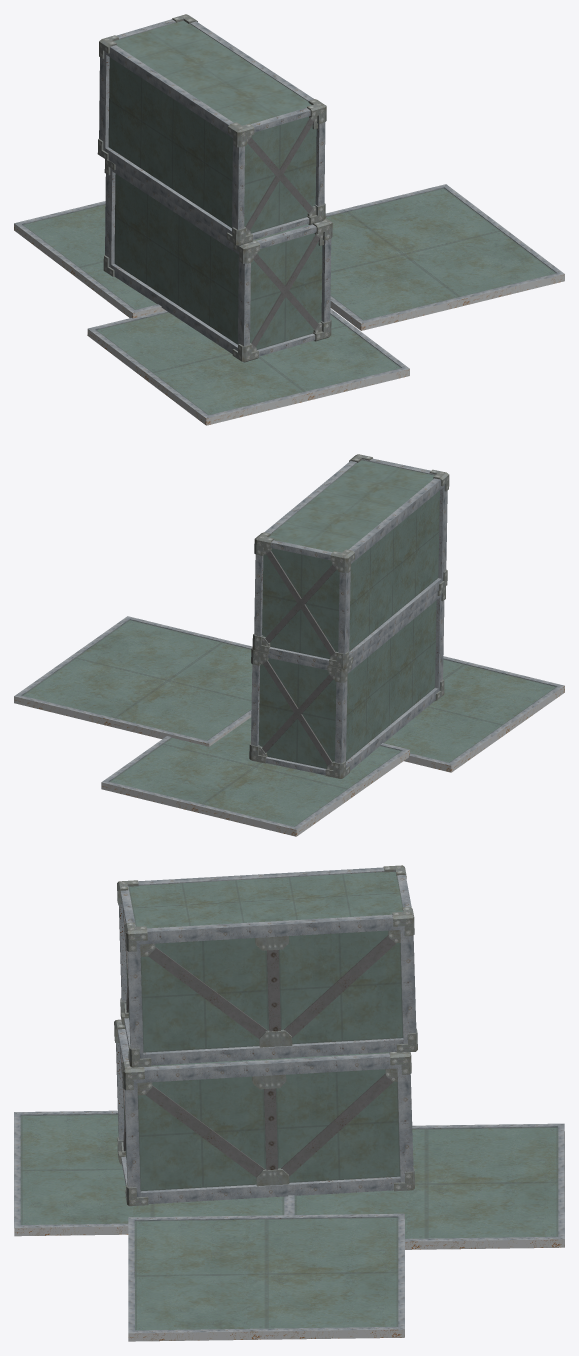
File: Ob_Tiles_RC.fbx
3 views of the same model, one above another, from view 1: azimuth 30°, elevation 25°; view 2: azimuth 150°, elevation 25°; view 3: azimuth 270°, elevation 25° (orthographic). The views are drawn at different scales.
Visible parts, largest first — view 1: Ob_Tiles_RC; view 2: Ob_Tiles_RC; view 3: Ob_Tiles_RC.
Part boxes in pixels (box(x1,y1,x2,y2)): Ob_Tiles_RC: box(14, 14, 564, 425); Ob_Tiles_RC: box(14, 454, 564, 836); Ob_Tiles_RC: box(14, 865, 564, 1341).
Size of the model in its own units: 3616 by 2117 by 3632.
